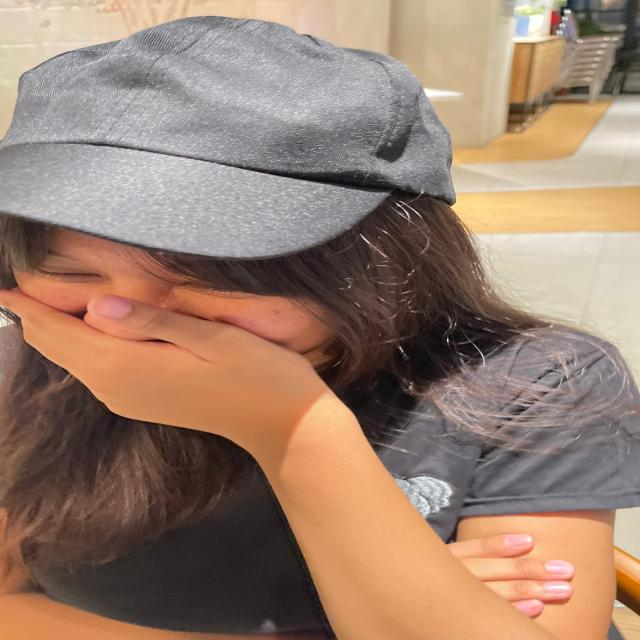3_gorra: (1, 11, 460, 263)
